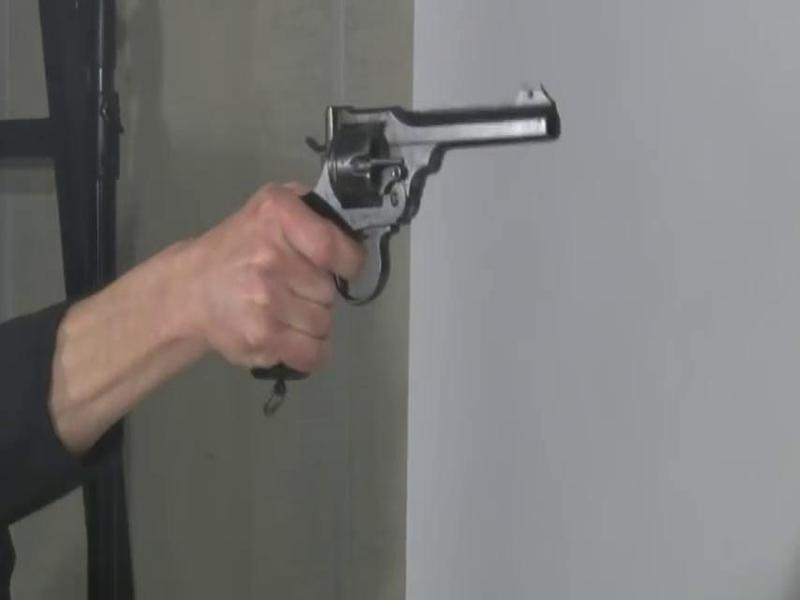Revolver: (247, 81, 587, 322)
